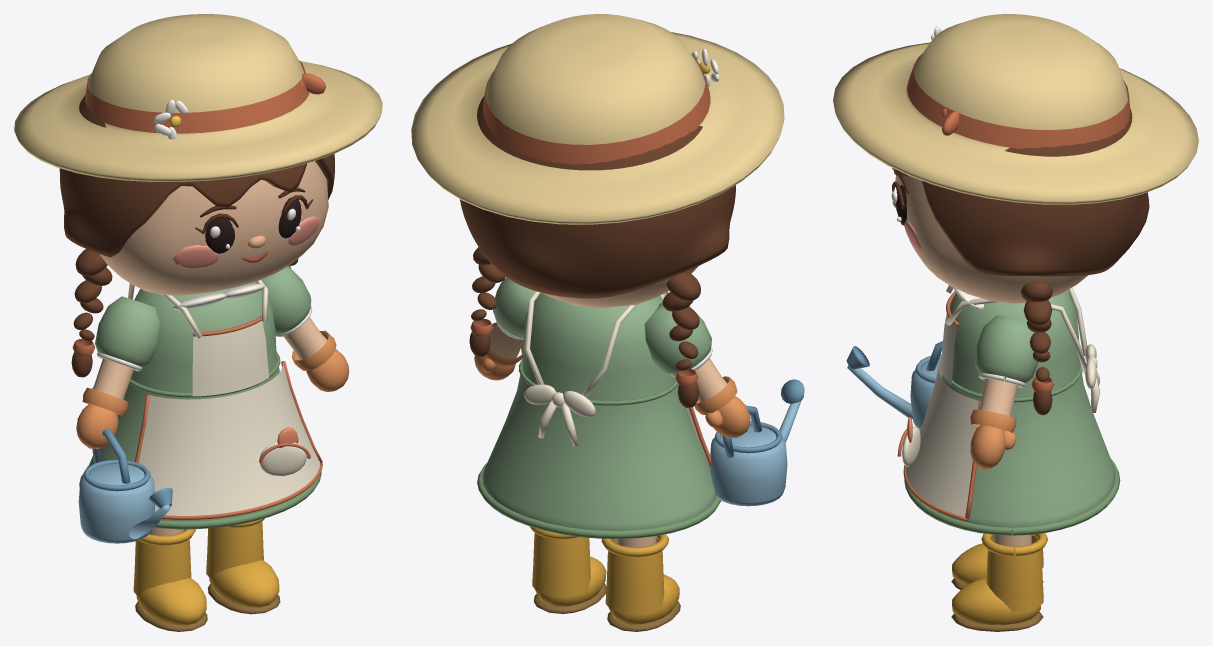
The model's file is neighbor.glb.
3 views of the same model, side by side, from view 1: azimuth 30°, elevation 25°; view 2: azimuth 150°, elevation 25°; view 3: azimuth 270°, elevation 25° (orthographic).
Parts seen in each view (by area): view 1: head, body, arm_R, can, arm_L; view 2: head, body, can, arm_R, arm_L; view 3: head, body, arm_L, can.
Boxes of the visible parts, x1,y1,x2,y2 form: head: [14, 14, 382, 377]; body: [79, 280, 322, 631]; arm_R: [76, 296, 159, 448]; can: [78, 428, 172, 543]; arm_L: [261, 266, 349, 391]; head: [411, 14, 784, 407]; body: [477, 291, 721, 631]; can: [710, 379, 804, 506]; arm_R: [644, 302, 750, 437]; arm_L: [474, 277, 535, 380]; head: [833, 14, 1198, 415]; body: [897, 285, 1120, 631]; arm_L: [970, 315, 1038, 469]; can: [846, 341, 942, 430].
Size of the model in its own units: 0.75 by 1.28 by 0.7444.
